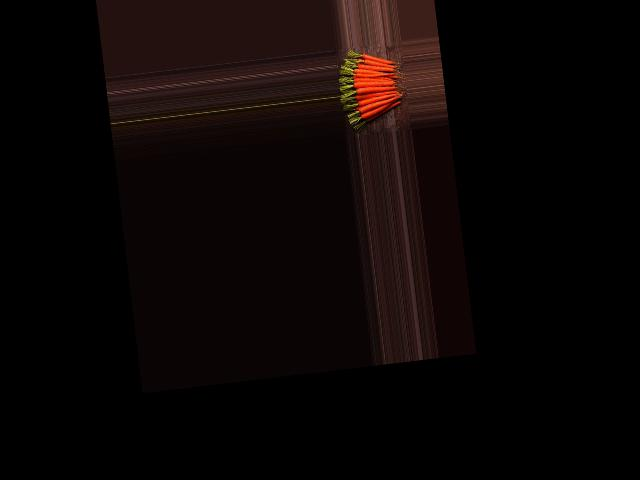carrot: (360, 50, 394, 60)
